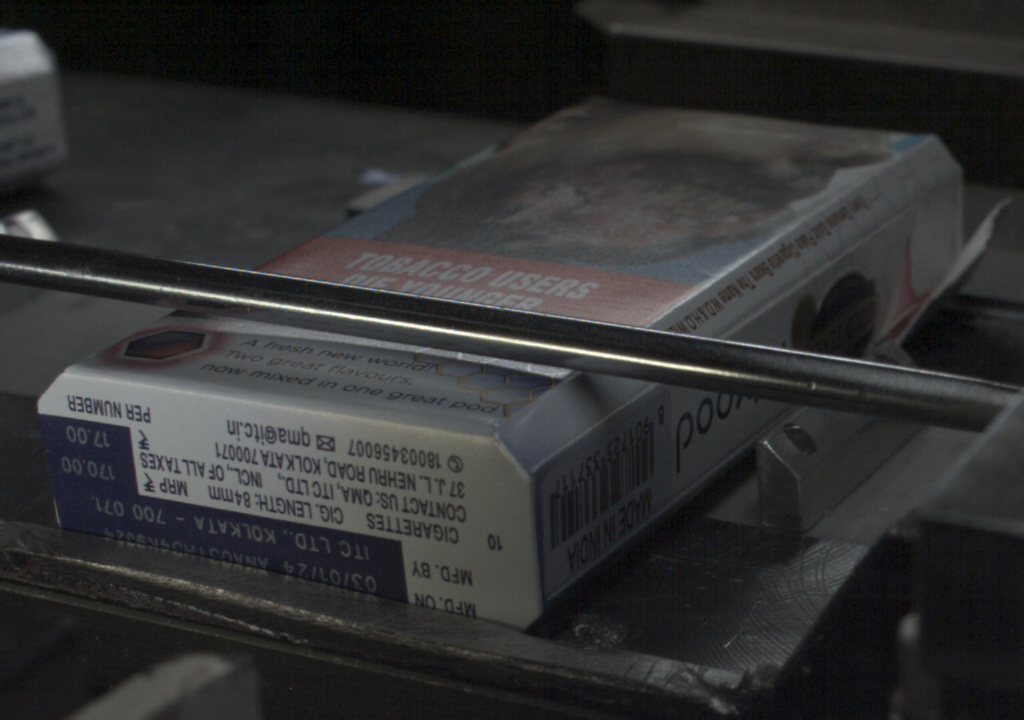g_bottom: (36, 367, 525, 635)
g_label: (51, 493, 402, 604)
g_lmiter: (726, 268, 818, 334), (816, 201, 904, 269), (532, 424, 593, 473), (594, 381, 654, 423)
ng_miter: (912, 166, 1011, 308)
price: (47, 423, 137, 492)
